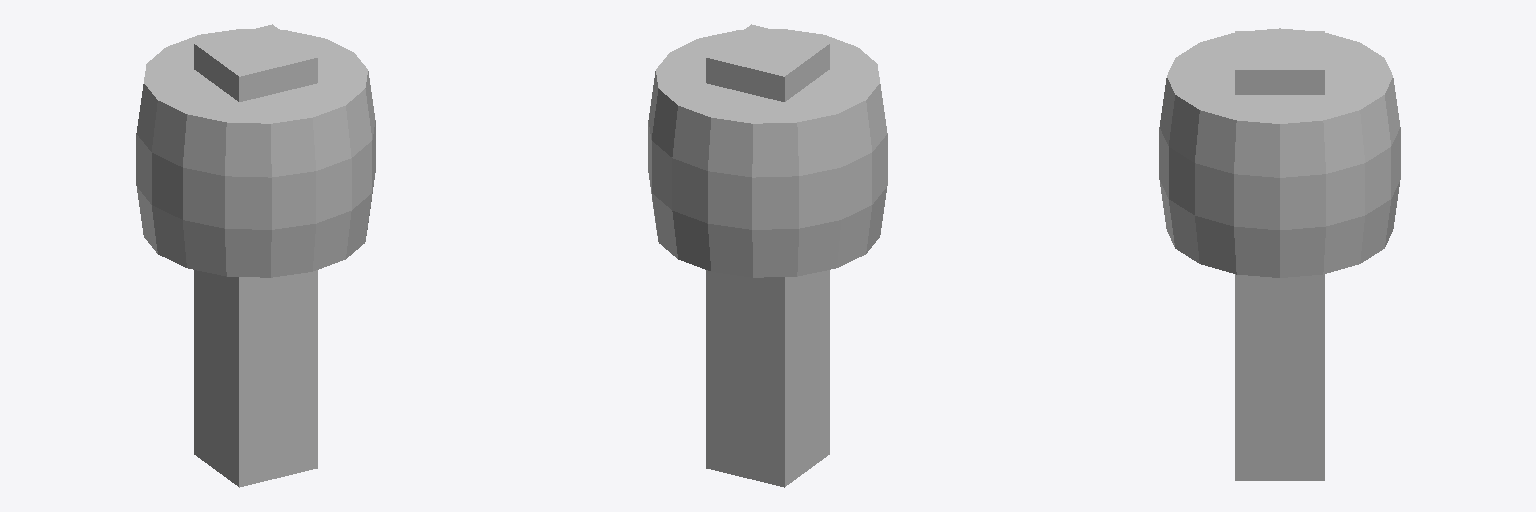
File: bollard.obj
3 renders of one model, left to right at view 1: azimuth 30°, elevation 25°; view 2: azimuth 150°, elevation 25°; view 3: azimuth 270°, elevation 25°, orthographic.
Visible parts, largest first — view 1: Cube; view 2: Cube; view 3: Cube.
Part boxes in pixels (x1,y1,x2,y2): Cube: (136,24,375,487); Cube: (648,24,887,487); Cube: (1159,28,1400,480).
Size of the model in its own units: 0.532 by 1 by 0.532.